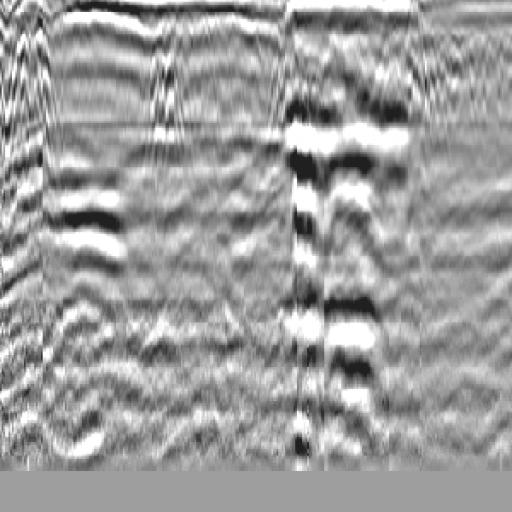non-metallic: (14, 20, 72, 154)
